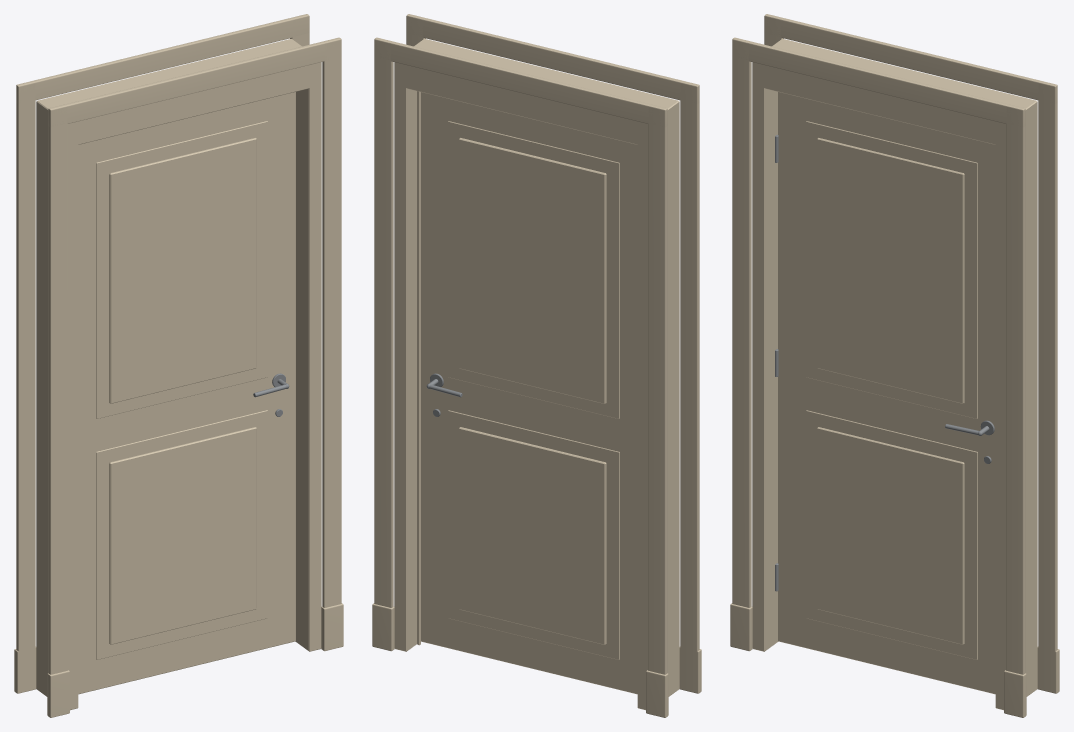
File: prop_door_single_ivory_t20.glb
The picture shows the model from 3 angles, left to right: view 1: azimuth 30°, elevation 25°; view 2: azimuth 150°, elevation 25°; view 3: azimuth 330°, elevation 25°; orthographic projection.
Parts seen in each view (by area): view 1: LeafMesh, Frame; view 2: LeafMesh, Frame; view 3: LeafMesh, Frame.
Boxes of the visible parts, <box> form: LeafMesh: <box>78,92,295,694</box>; Frame: <box>14,14,343,717</box>; LeafMesh: <box>421,92,637,694</box>; Frame: <box>372,14,701,717</box>; LeafMesh: <box>775,92,995,694</box>; Frame: <box>730,14,1059,717</box>.
Size of what is drawn, in the model's own units: 1.15 by 2.27 by 0.248.
